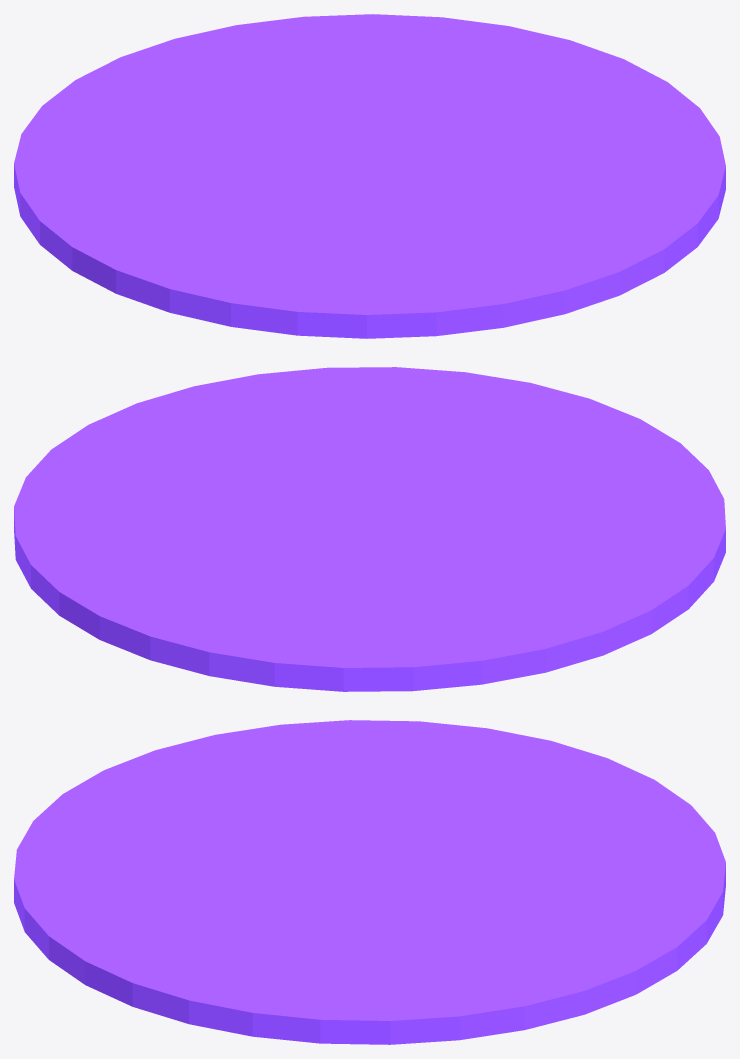
File: circular-platform4.glb
3 views of the same model, one above another, from view 1: azimuth 30°, elevation 25°; view 2: azimuth 150°, elevation 25°; view 3: azimuth 270°, elevation 25° (orthographic).
Visible parts, largest first — view 1: platform; view 2: platform; view 3: platform.
Part boxes in pixels (box(x1,y1,x2,y2)): platform: box(14, 14, 725, 338); platform: box(14, 367, 725, 691); platform: box(14, 720, 725, 1044).
Size of what is drawn, in the model's own units: 1.03 by 0.038 by 1.03.
